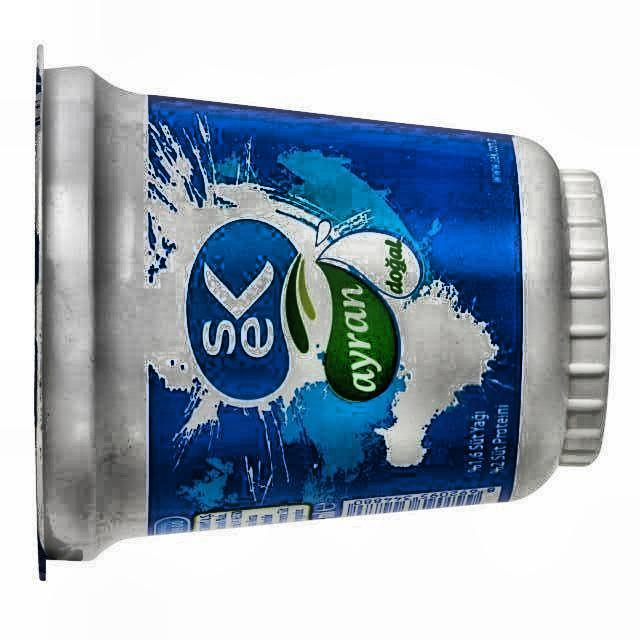plastic: (36, 65, 610, 573)
